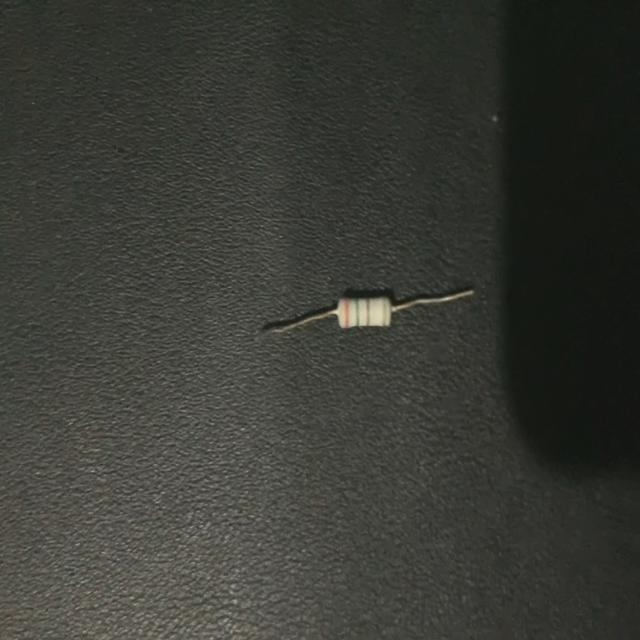resistor: (263, 293, 472, 334)
